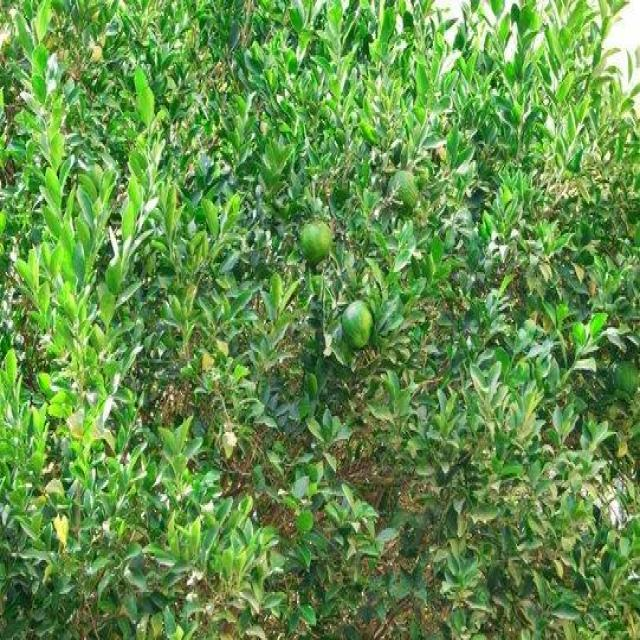Jeruk Belum Matang: (344, 300, 372, 350), (300, 224, 334, 265), (390, 170, 418, 212)
